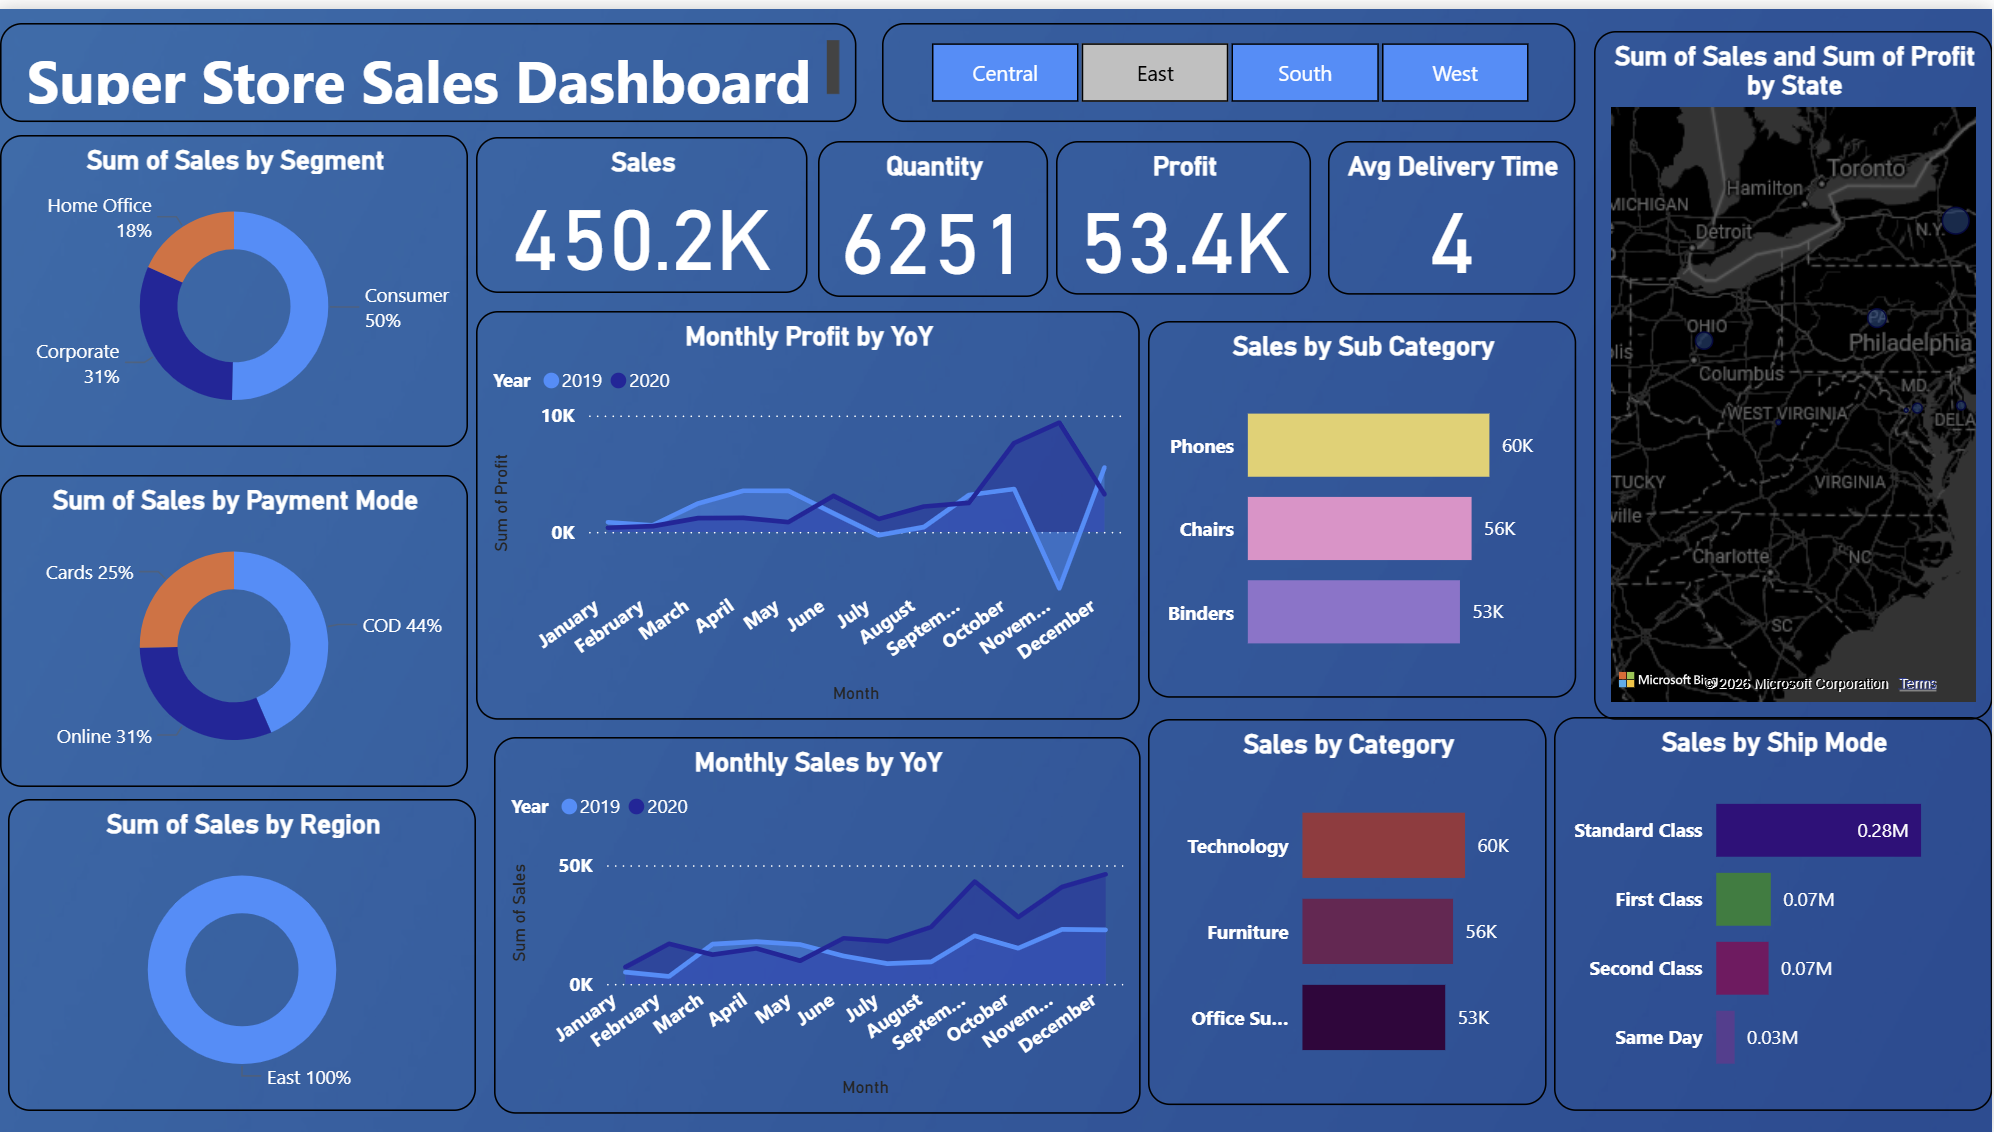

Layout of this report page (visuals, bound fields, positions):
{"tool":"powerbi","page":{"name":"Page 1","canvas":[1280,720],"ordinal":0},"visuals":[{"type":"barChart","title":"Sales by Sub Category","fields":{"Category":["Sheet1.Sub-Category"],"Y":["Sum(Sheet1.Sales)"]},"box":[738.1,200,274.6,241.3],"z":0},{"type":"barChart","title":"Sales by Ship Mode","fields":{"Category":["Sheet1.Ship Mode"],"Y":["Sum(Sheet1.Sales)"]},"box":[998.4,454,281,252.4],"z":1000},{"type":"areaChart","title":" Monthly Sales by YoY","fields":{"Y":["Sum(Sheet1.Sales)"],"Category":["Sheet1.Order Date.Variation.Date Hierarchy.Month","Sheet1.Order Date.Variation.Date Hierarchy.Day"],"Series":["Sheet1.Order Date.Variation.Date Hierarchy.Year"]},"box":[319,466.7,414.3,241.3],"z":2000},{"type":"areaChart","title":" Monthly Profit by YoY","fields":{"Category":["Sheet1.Order Date.Variation.Date Hierarchy.Month","Sheet1.Order Date.Variation.Date Hierarchy.Day"],"Series":["Sheet1.Order Date.Variation.Date Hierarchy.Year"],"Y":["Sum(Sheet1.Profit)"]},"box":[307.9,193.7,425.4,261.9],"z":3000},{"type":"barChart","title":"Sales by  Category","fields":{"Category":["Sheet1.Category"],"Y":["Sum(Sheet1.Sales)"]},"box":[738.1,455.6,255.6,247.6],"z":4000},{"type":"map","fields":{"Category":["Sheet1.State"],"Size":["Sum(Sheet1.Sales)"]},"box":[1023.8,14.3,255.6,441.3],"z":5000},{"type":"donutChart","fields":{"Category":["Sheet1.Segment"],"Y":["Sum(Sheet1.Sales)"]},"box":[3.2,81,300,200],"z":6000},{"type":"donutChart","fields":{"Category":["Sheet1.Payment Mode"],"Y":["Sum(Sheet1.Sales)"]},"box":[3.2,298.4,300,200],"z":7000},{"type":"slicer","fields":{"Values":["Sheet1.Region"]},"box":[568.3,9.5,444.4,63.5],"z":8000},{"type":"textbox","box":[3.2,9.5,549.2,63.5],"z":9000},{"type":"card","title":"Sales","fields":{"Values":["Sum(Sheet1.Sales)"]},"box":[307.9,82.5,212.7,100],"z":10000},{"type":"card","title":"Quantity","fields":{"Values":["Sum(Sheet1.Quantity)"]},"box":[527,84.1,147.6,100],"z":11000},{"type":"card","title":"Profit","fields":{"Values":["Sum(Sheet1.Profit)"]},"box":[679.4,84.1,163.5,98.4],"z":12000},{"type":"card","title":"Avg Delivery Time","fields":{"Values":["Avg(Sheet1.Avgdelivery)"]},"box":[854,84.1,158.7,98.4],"z":13000},{"type":"donutChart","fields":{"Category":["Sheet1.Region"],"Y":["Sum(Sheet1.Sales)"]},"box":[7.9,506.3,300,200],"z":13001}]}

Visuals, with their boxes in screenshot pixels (x1, y1, x2, y2), scaled from the page's 1280x720 canvas onto the 1994x1132 screenshot:
"Sales by Sub Category" barChart: [left=1150, top=314, right=1578, bottom=694]
"Sales by Ship Mode" barChart: [left=1555, top=714, right=1993, bottom=1111]
" Monthly Sales by YoY" areaChart: [left=497, top=734, right=1142, bottom=1113]
" Monthly Profit by YoY" areaChart: [left=480, top=305, right=1142, bottom=716]
"Sales by  Category" barChart: [left=1150, top=716, right=1548, bottom=1106]
map - Sheet1.State x Sum(Sheet1.Sales): [left=1595, top=22, right=1993, bottom=716]
donutChart - Sheet1.Segment x Sum(Sheet1.Sales): [left=5, top=127, right=472, bottom=442]
donutChart - Sheet1.Payment Mode x Sum(Sheet1.Sales): [left=5, top=469, right=472, bottom=784]
slicer - Sheet1.Region: [left=885, top=15, right=1578, bottom=115]
textbox: [left=5, top=15, right=861, bottom=115]
"Sales" card: [left=480, top=130, right=811, bottom=287]
"Quantity" card: [left=821, top=132, right=1051, bottom=289]
"Profit" card: [left=1058, top=132, right=1313, bottom=287]
"Avg Delivery Time" card: [left=1330, top=132, right=1578, bottom=287]
donutChart - Sheet1.Region x Sum(Sheet1.Sales): [left=12, top=796, right=480, bottom=1110]
